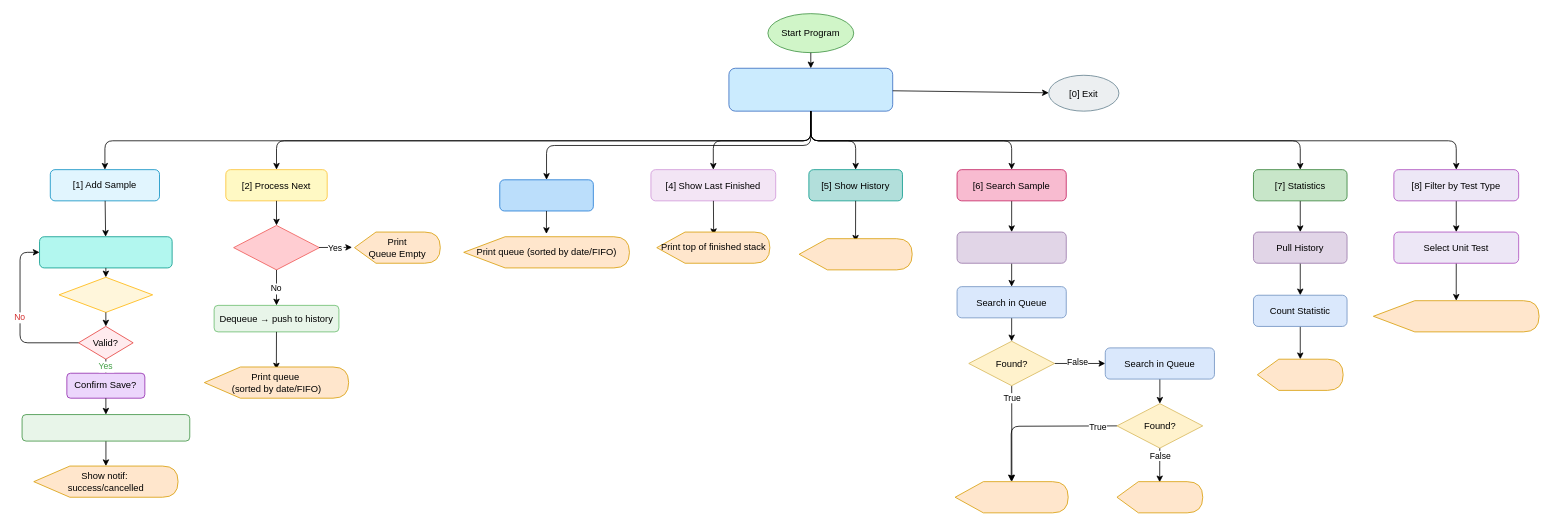
Image size: 1553x527. Some labels were removed from this diagram. The shapes that lost their labels are listed below. From the top down, each one's centre as x and y in pixels, then its label:
the point at 810,89: Main Menu (1-8, 0 to Exit)
the point at 546,195: [3] Show Queue
the point at 105,252: Input sender, type, date
the point at 276,247: Queue empty?
the point at 855,254: Print all finished (stack)
the point at 1011,247: Input Code Sample
the point at 105,294: Validate input
the point at 1456,316: Show Filtered Data
the point at 1300,374: Show Statistic
the point at 105,427: Insert to Queue (sort by date/FIFO)
the point at 1011,497: Show Sample Detail
the point at 1159,497: Show Not found
